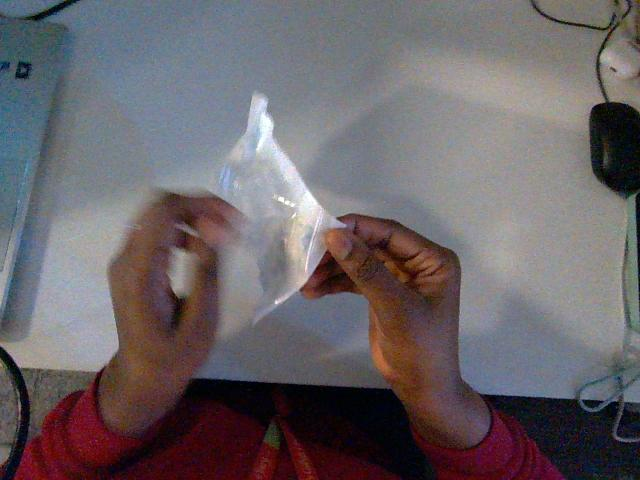gallipot: (218, 94, 344, 322)
